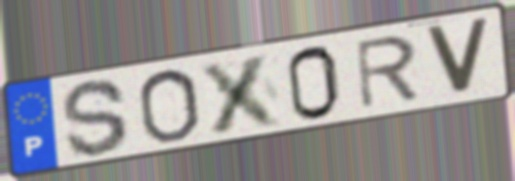0: (283, 43, 343, 123)
O: (135, 65, 203, 146)
R: (352, 32, 423, 113)
S: (58, 77, 131, 160)
V: (420, 16, 493, 96)
X: (196, 50, 288, 138)
